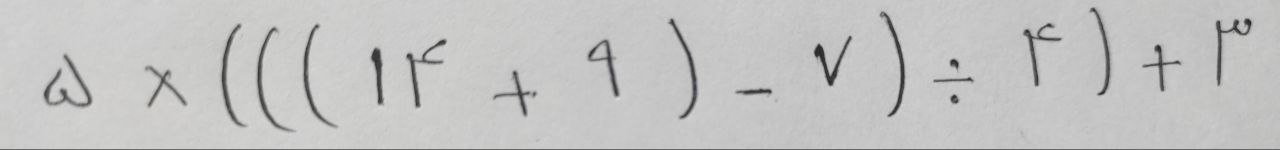character: (256, 26, 299, 134), (303, 24, 340, 128), (667, 17, 699, 120), (878, 11, 907, 119), (405, 40, 449, 111), (220, 23, 249, 129), (1023, 21, 1065, 88), (45, 55, 93, 109), (1216, 18, 1253, 87), (1088, 6, 1113, 97), (492, 69, 538, 118), (812, 34, 853, 87), (932, 57, 976, 105), (587, 39, 622, 99), (144, 65, 190, 109), (1142, 46, 1182, 94), (370, 47, 386, 107), (734, 87, 774, 98)
